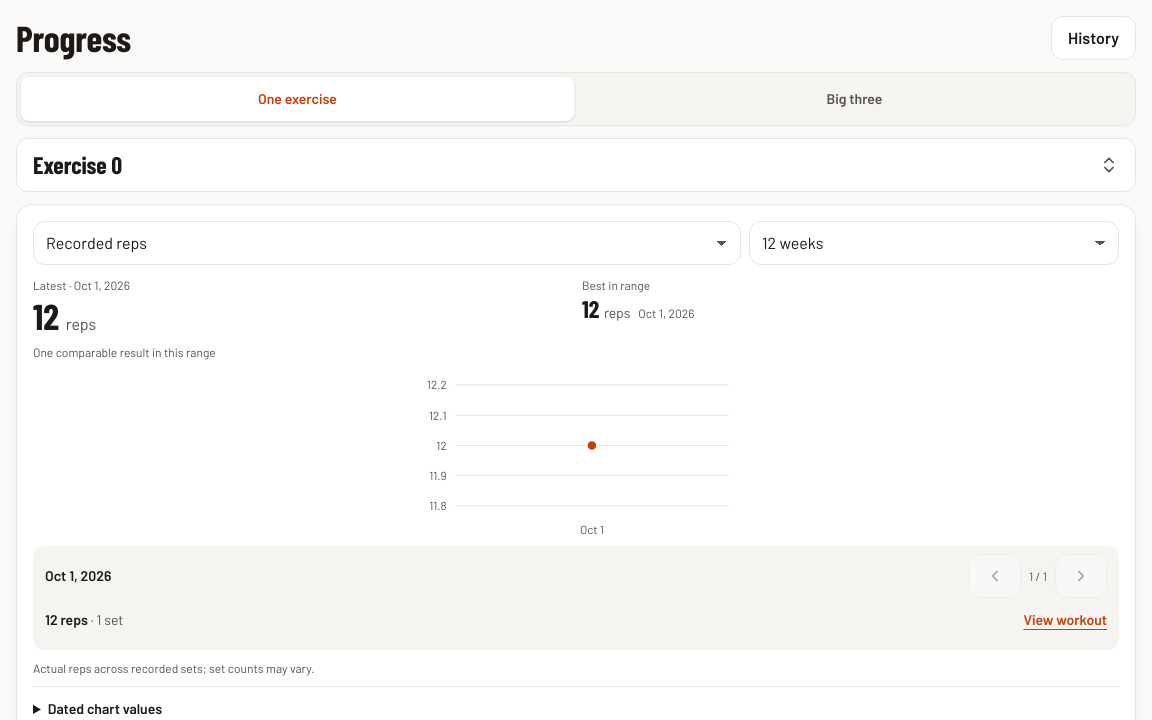
Scenario: graph-first Progress › shows one chart without favorite clutter and offers three primary choices
Click the button with aria-label "Choose exercise": [78, 164] box [16,138,1136,192]
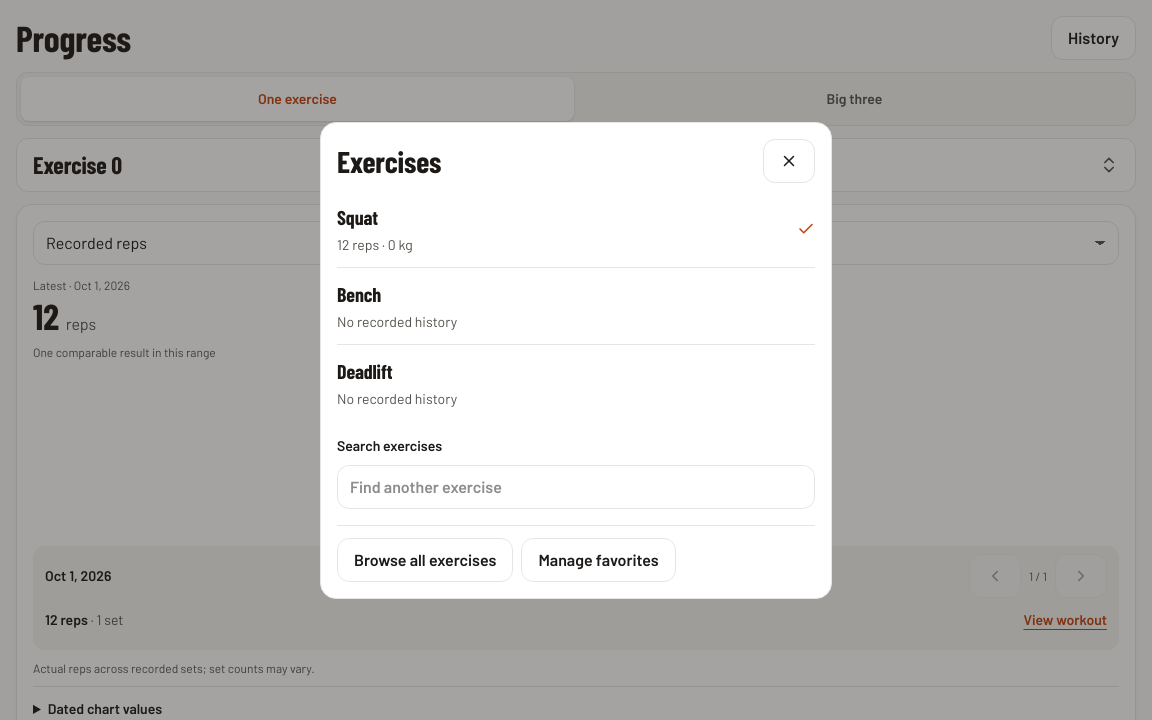
Check: the number of buttons with test id "exercise-choice" is 3, box [337,190,815,266]; [337,268,815,344]; [337,344,815,420]
